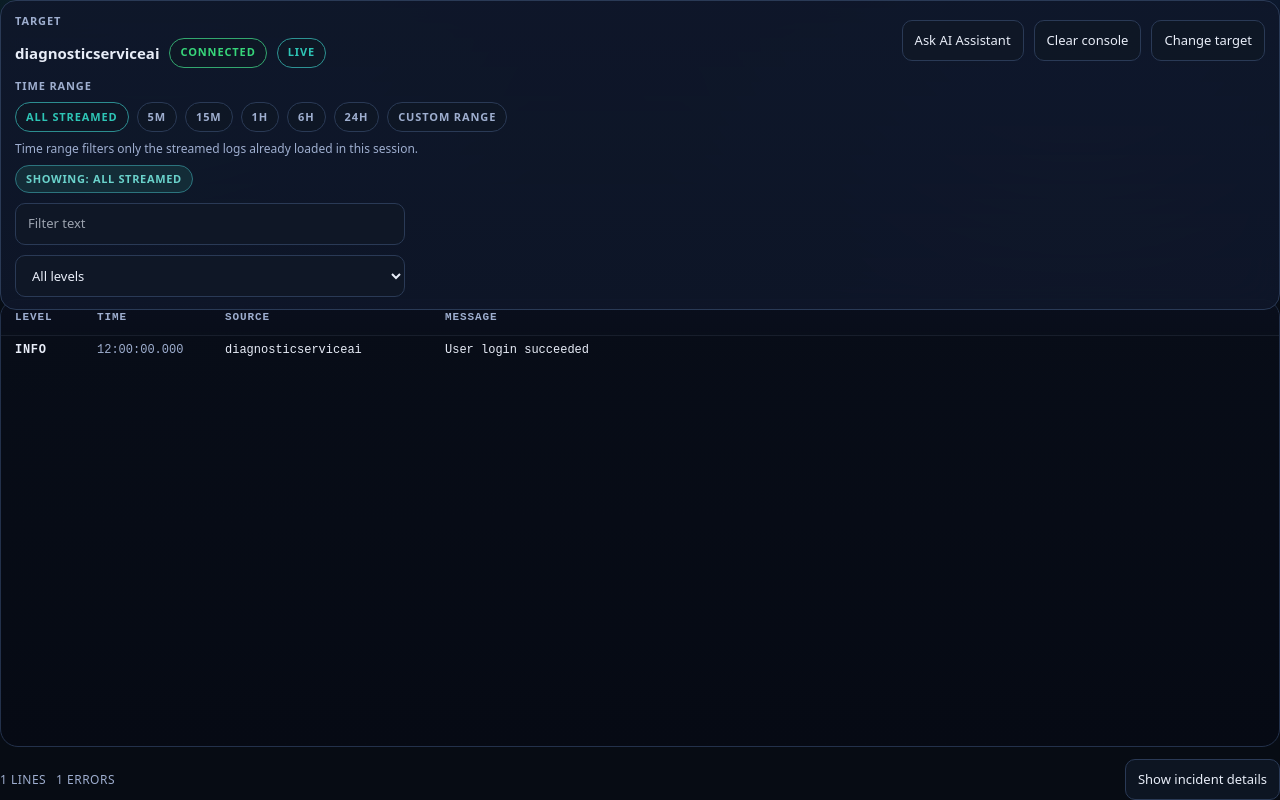
it: LiveLogsPage › keeps incident details collapsed until expanded
(page scrolled)
Expected: the text "java.lang.IllegalStateException" is not shown
Click the button "Show incident details". click: (1202, 780)
box: [1125,759,1279,799]
(page scrolled)
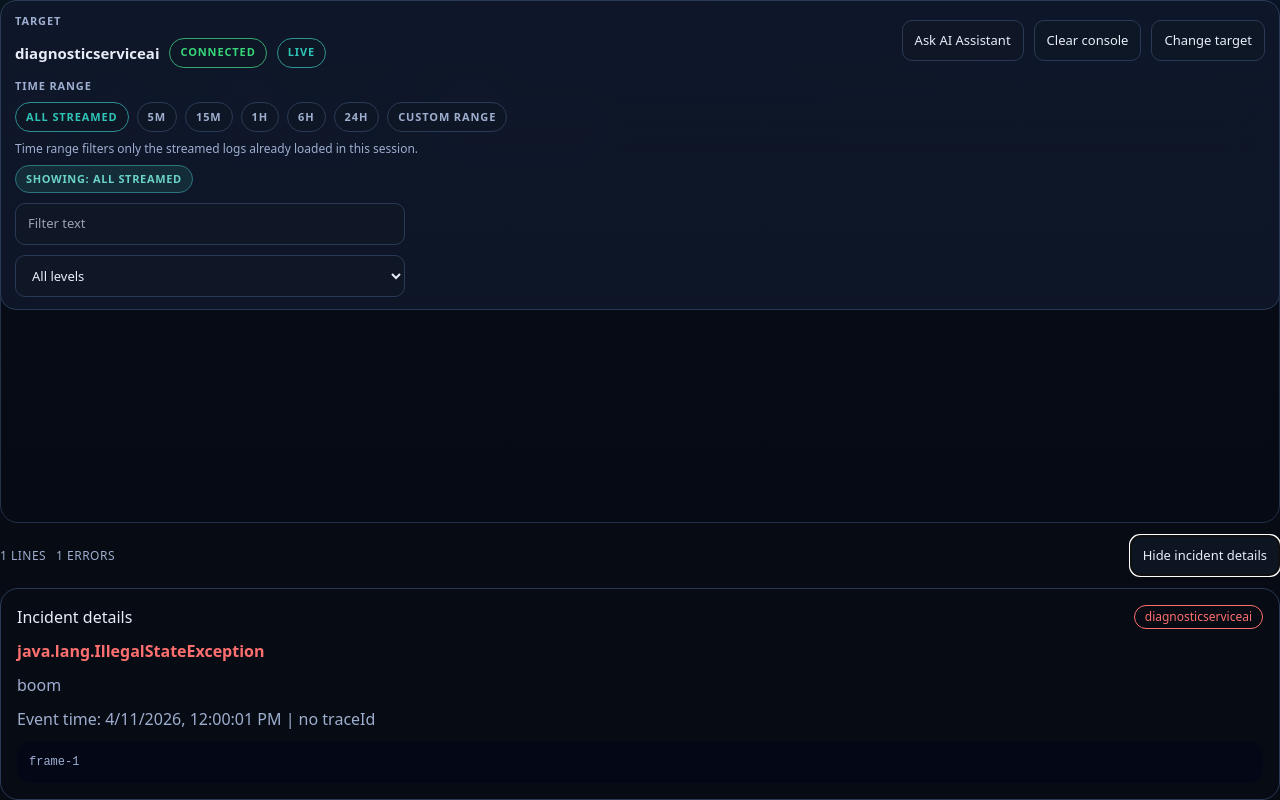
Now the heading "Incident details" is shown, box [17,605,132,629]
Now the text "java.lang.IllegalStateException" is shown, box [17,640,264,662]
Now the text "boom" is shown, box [17,674,61,696]
